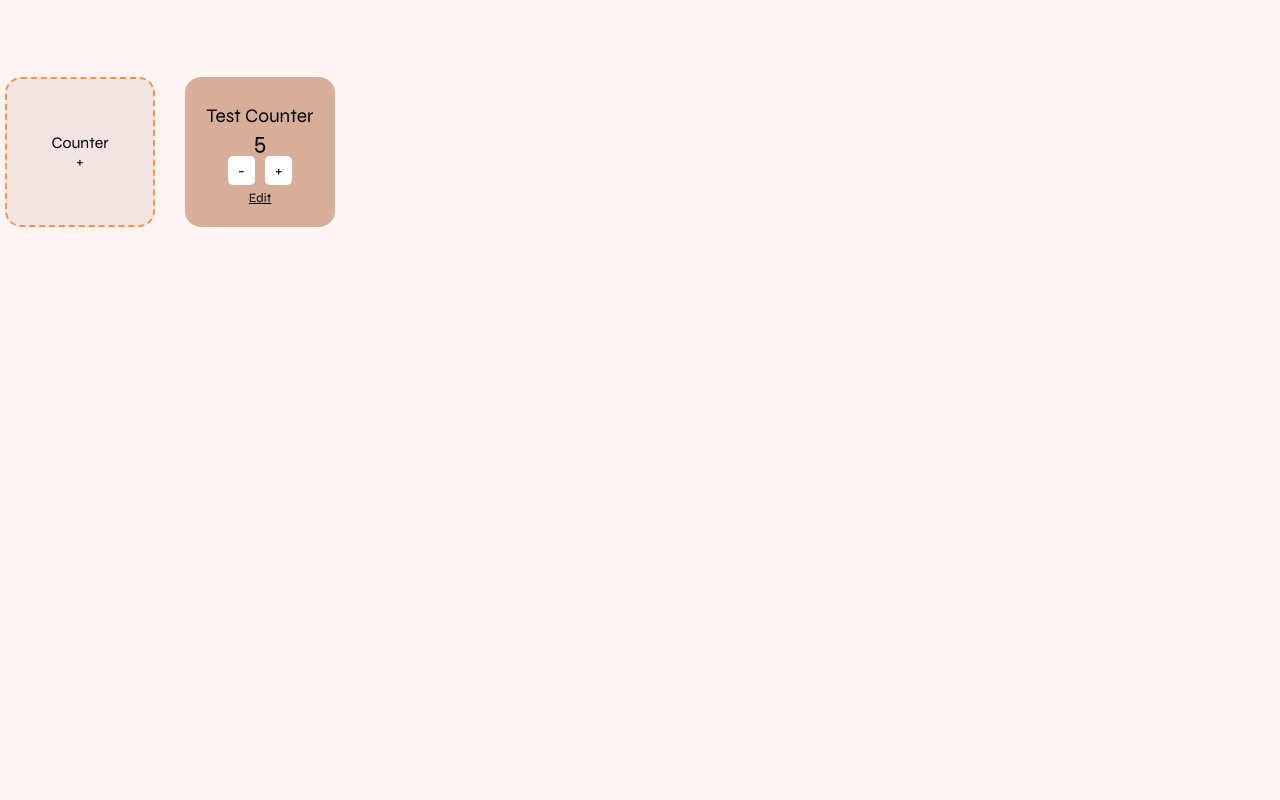
Scenario: Counter component › opens edit modal on click and finds the Update button
Click the text "Edit": [260, 198] box [249,190,271,206]
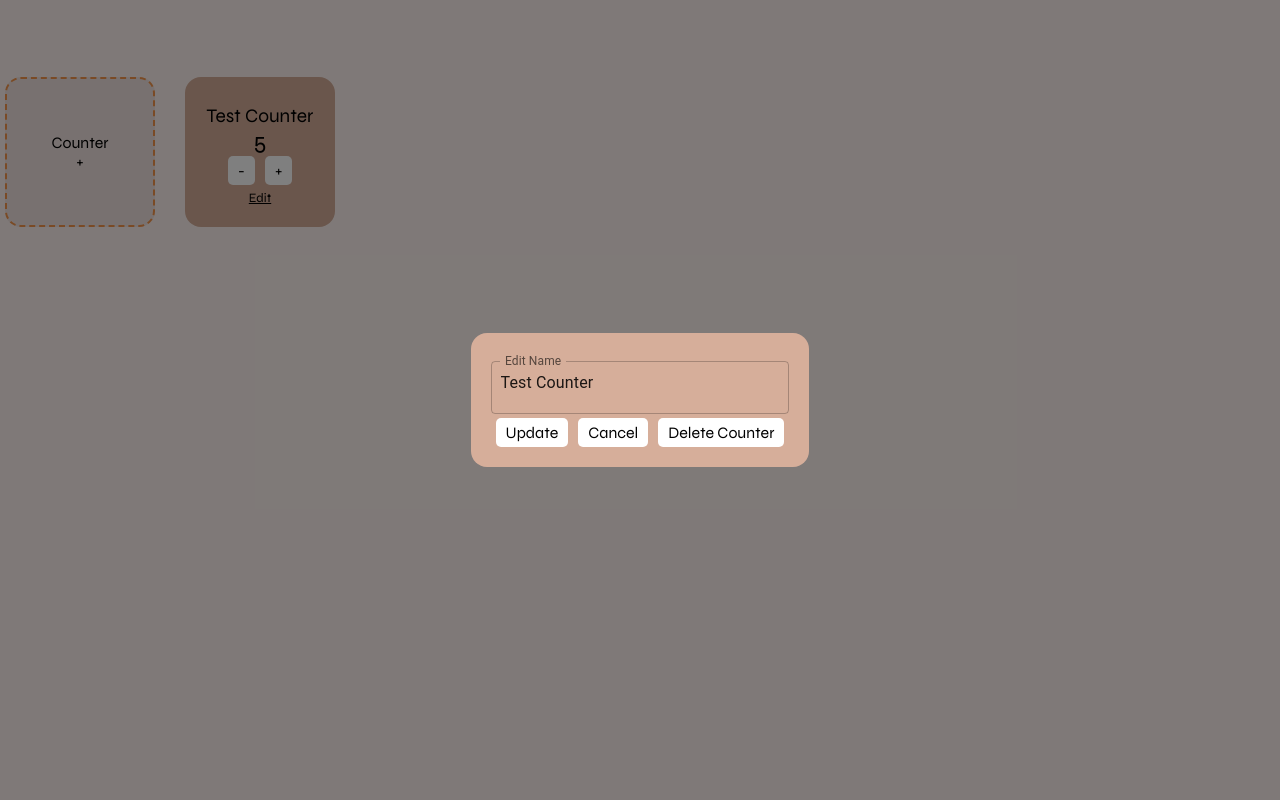
expect the button "Update" is shown: met, box [496,418,568,447]
